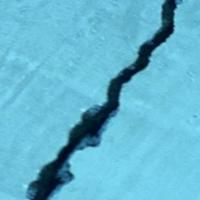crack: (20, 0, 183, 199)
